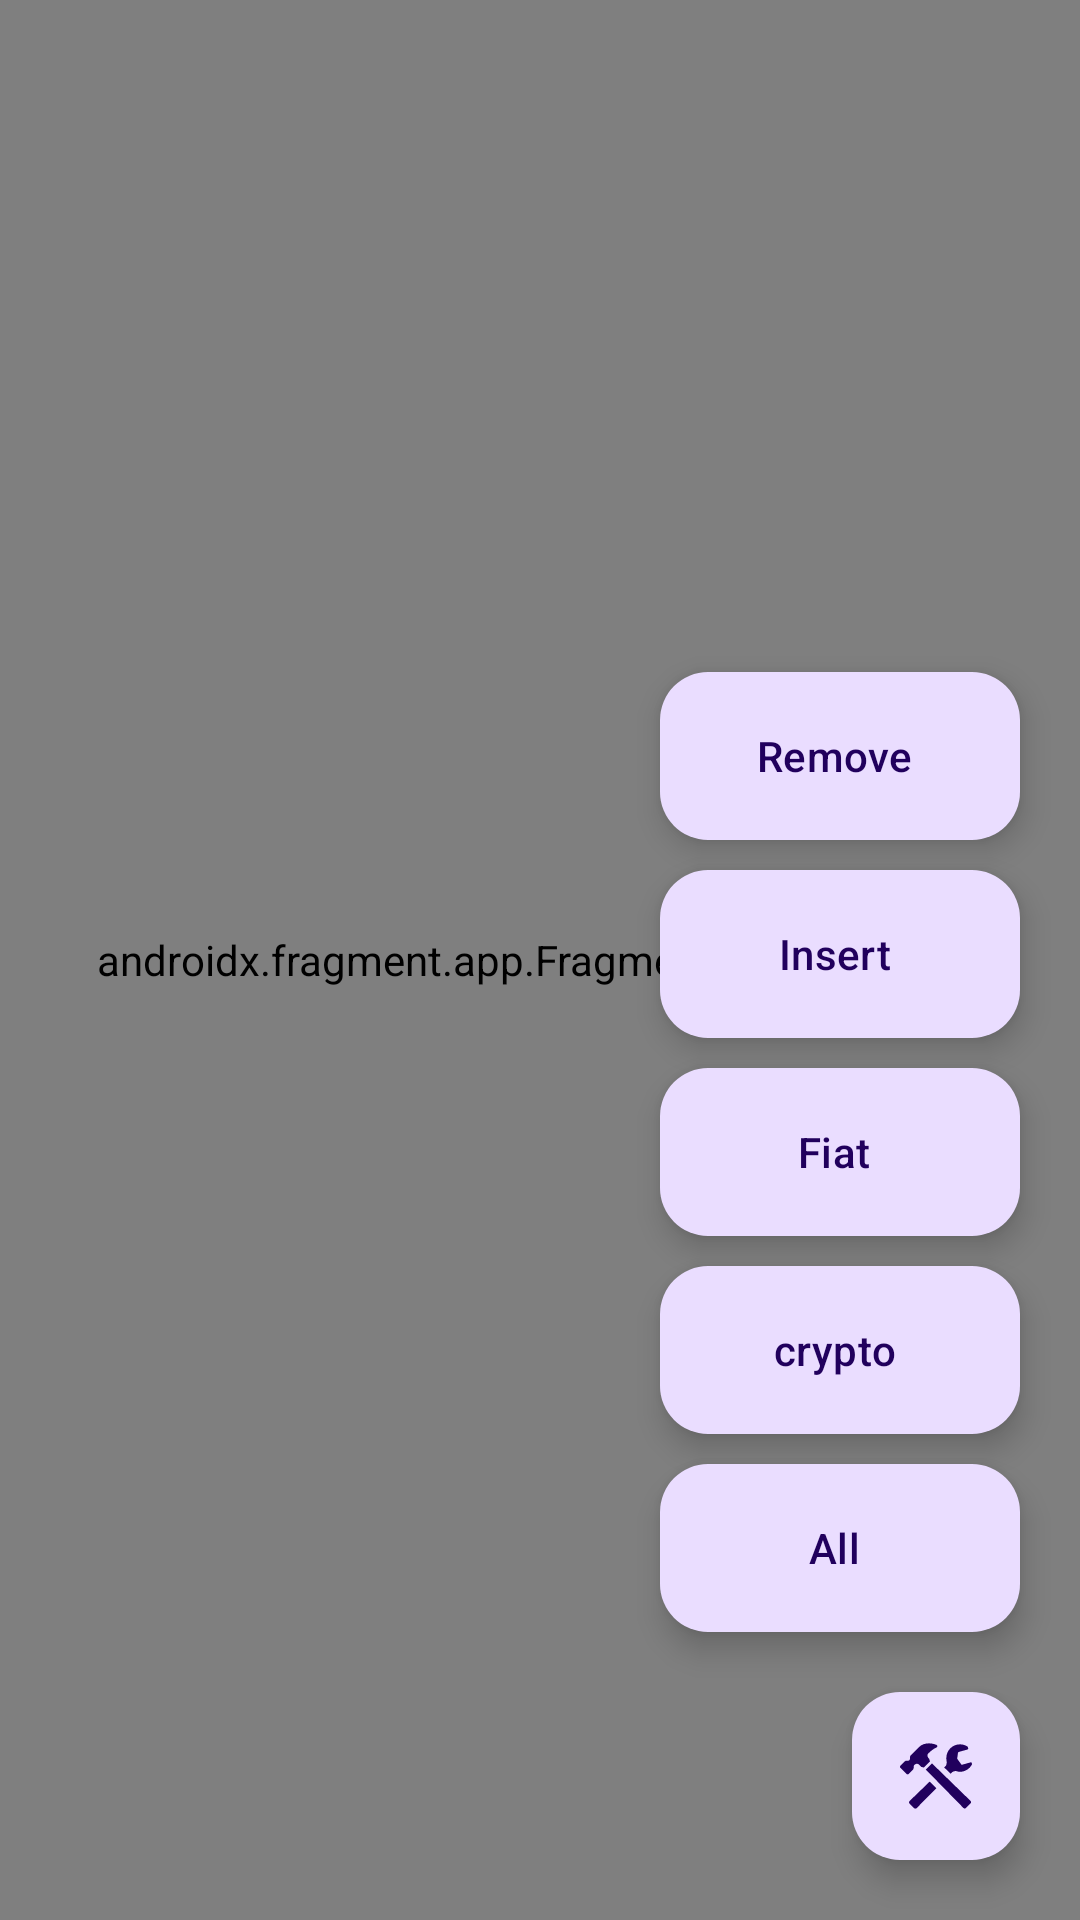

Where to tap for icons on this 1080px x 1920px app screen, as (x,y):
Settings: (936,1776)
